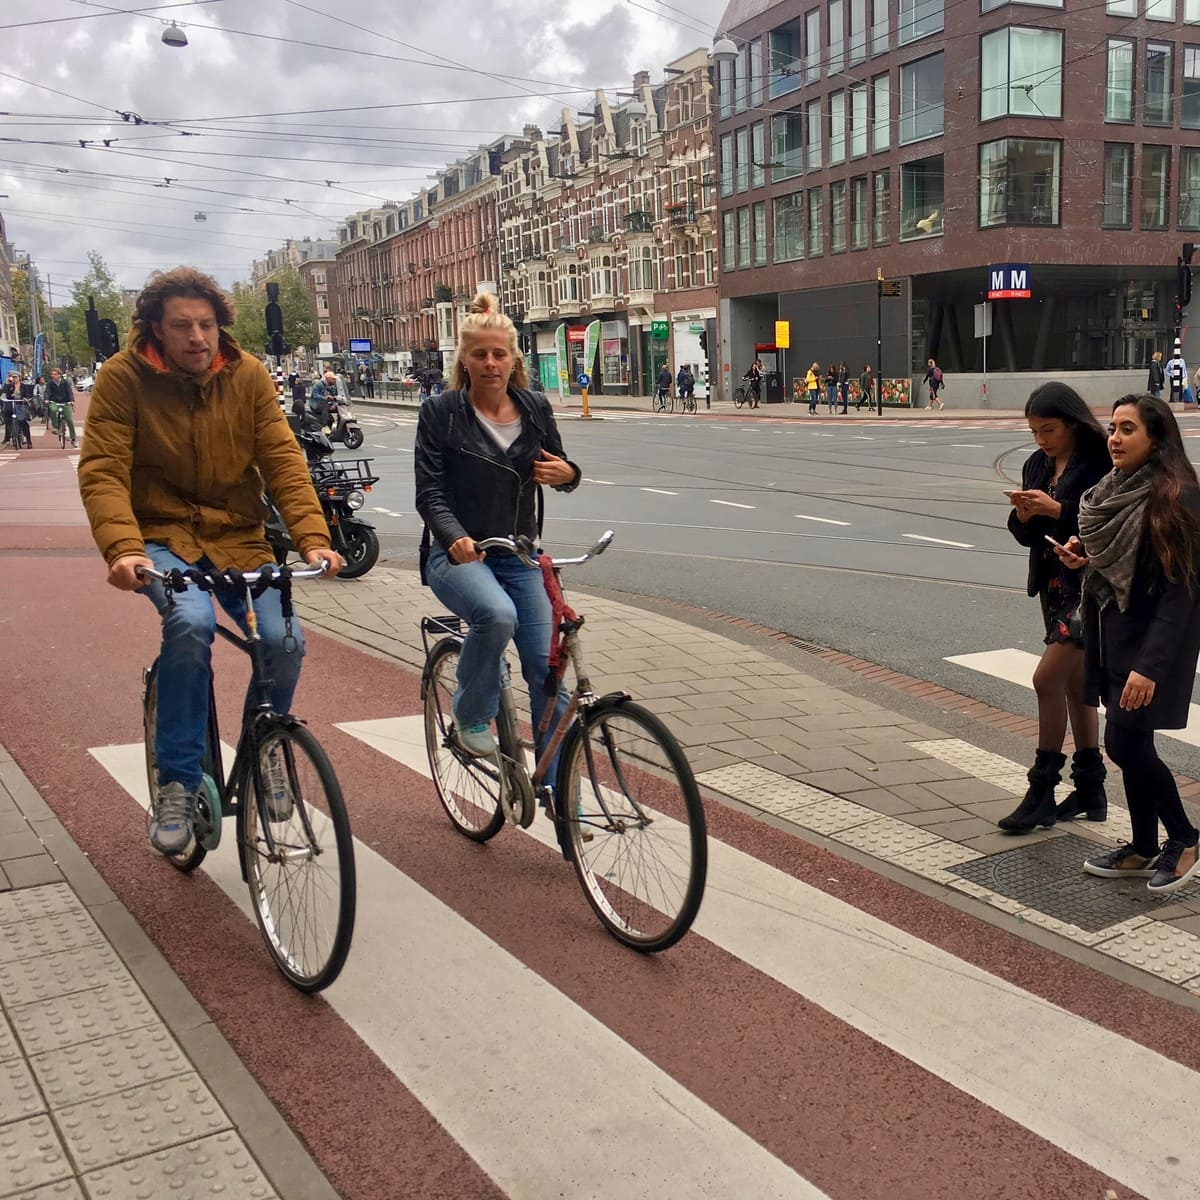commuter: (74, 271, 365, 1011), (411, 316, 710, 956)
